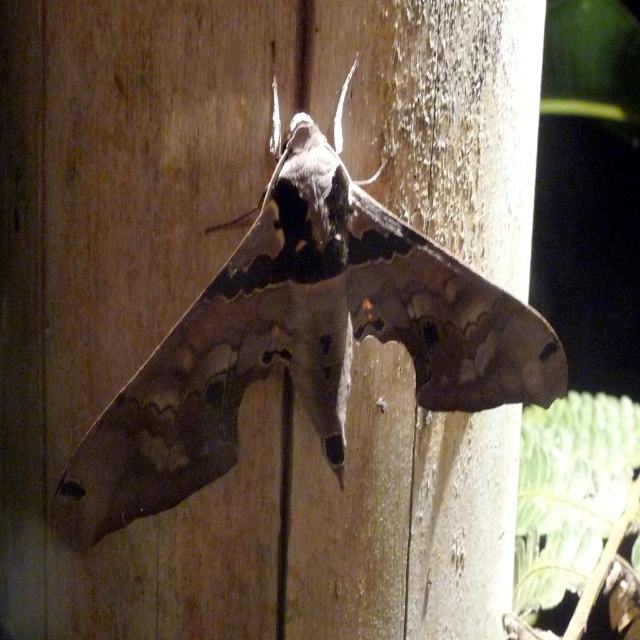Moths and butterflies: (40, 62, 568, 577)
